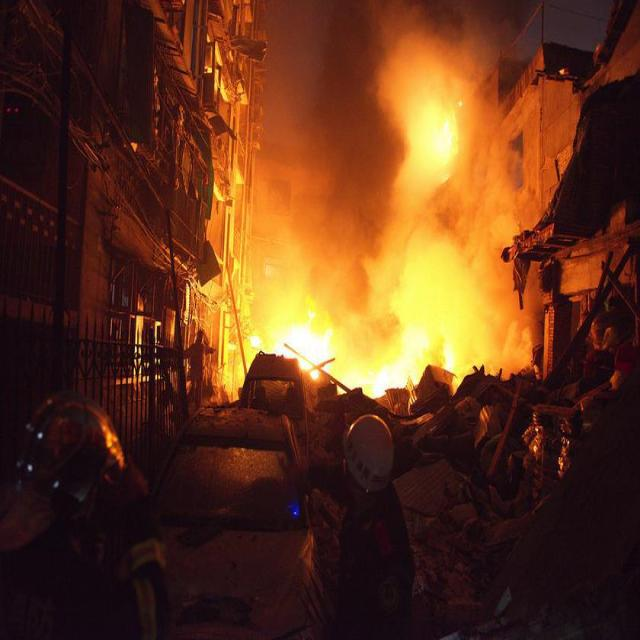fire: (261, 53, 518, 382)
